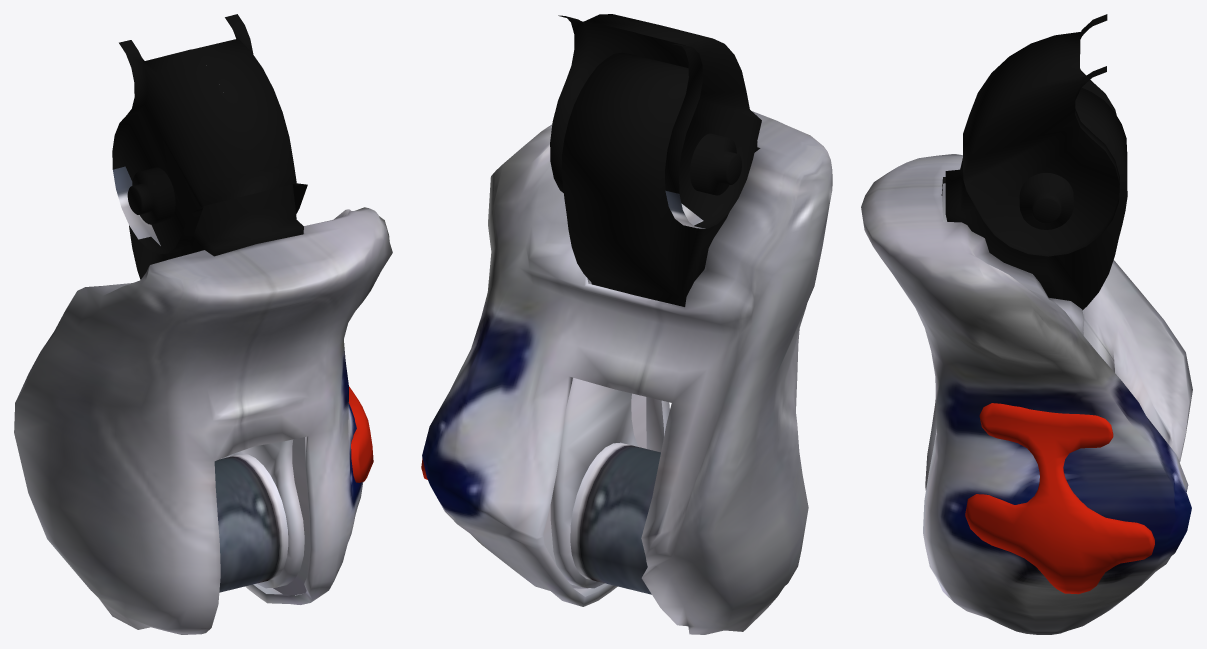
The model's file is mollet.obj.
The picture shows the model from 3 angles, left to right: view 1: azimuth 30°, elevation 25°; view 2: azimuth 150°, elevation 25°; view 3: azimuth 270°, elevation 25°; orthographic projection. The views are drawn at different scales.
Parts seen in each view (by area): view 1: Mollet_Chest.020; view 2: Mollet_Chest.020; view 3: Mollet_Chest.020.
Part boxes in pixels (bbox=[...]): Mollet_Chest.020: bbox=[14, 14, 392, 634]; Mollet_Chest.020: bbox=[421, 14, 832, 634]; Mollet_Chest.020: bbox=[861, 14, 1192, 634].
Bounding box in the file's own units: 0.9329 × 1.65 × 0.8968.
